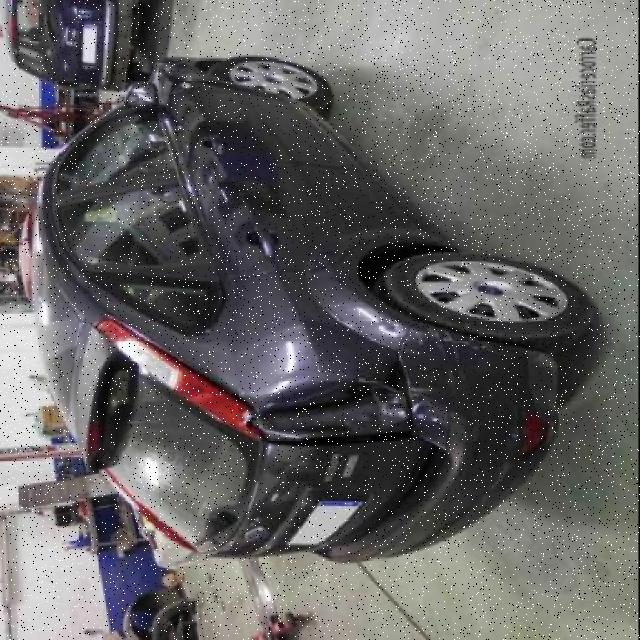damage: (248, 379, 411, 446), (410, 326, 496, 397), (380, 321, 402, 334)
